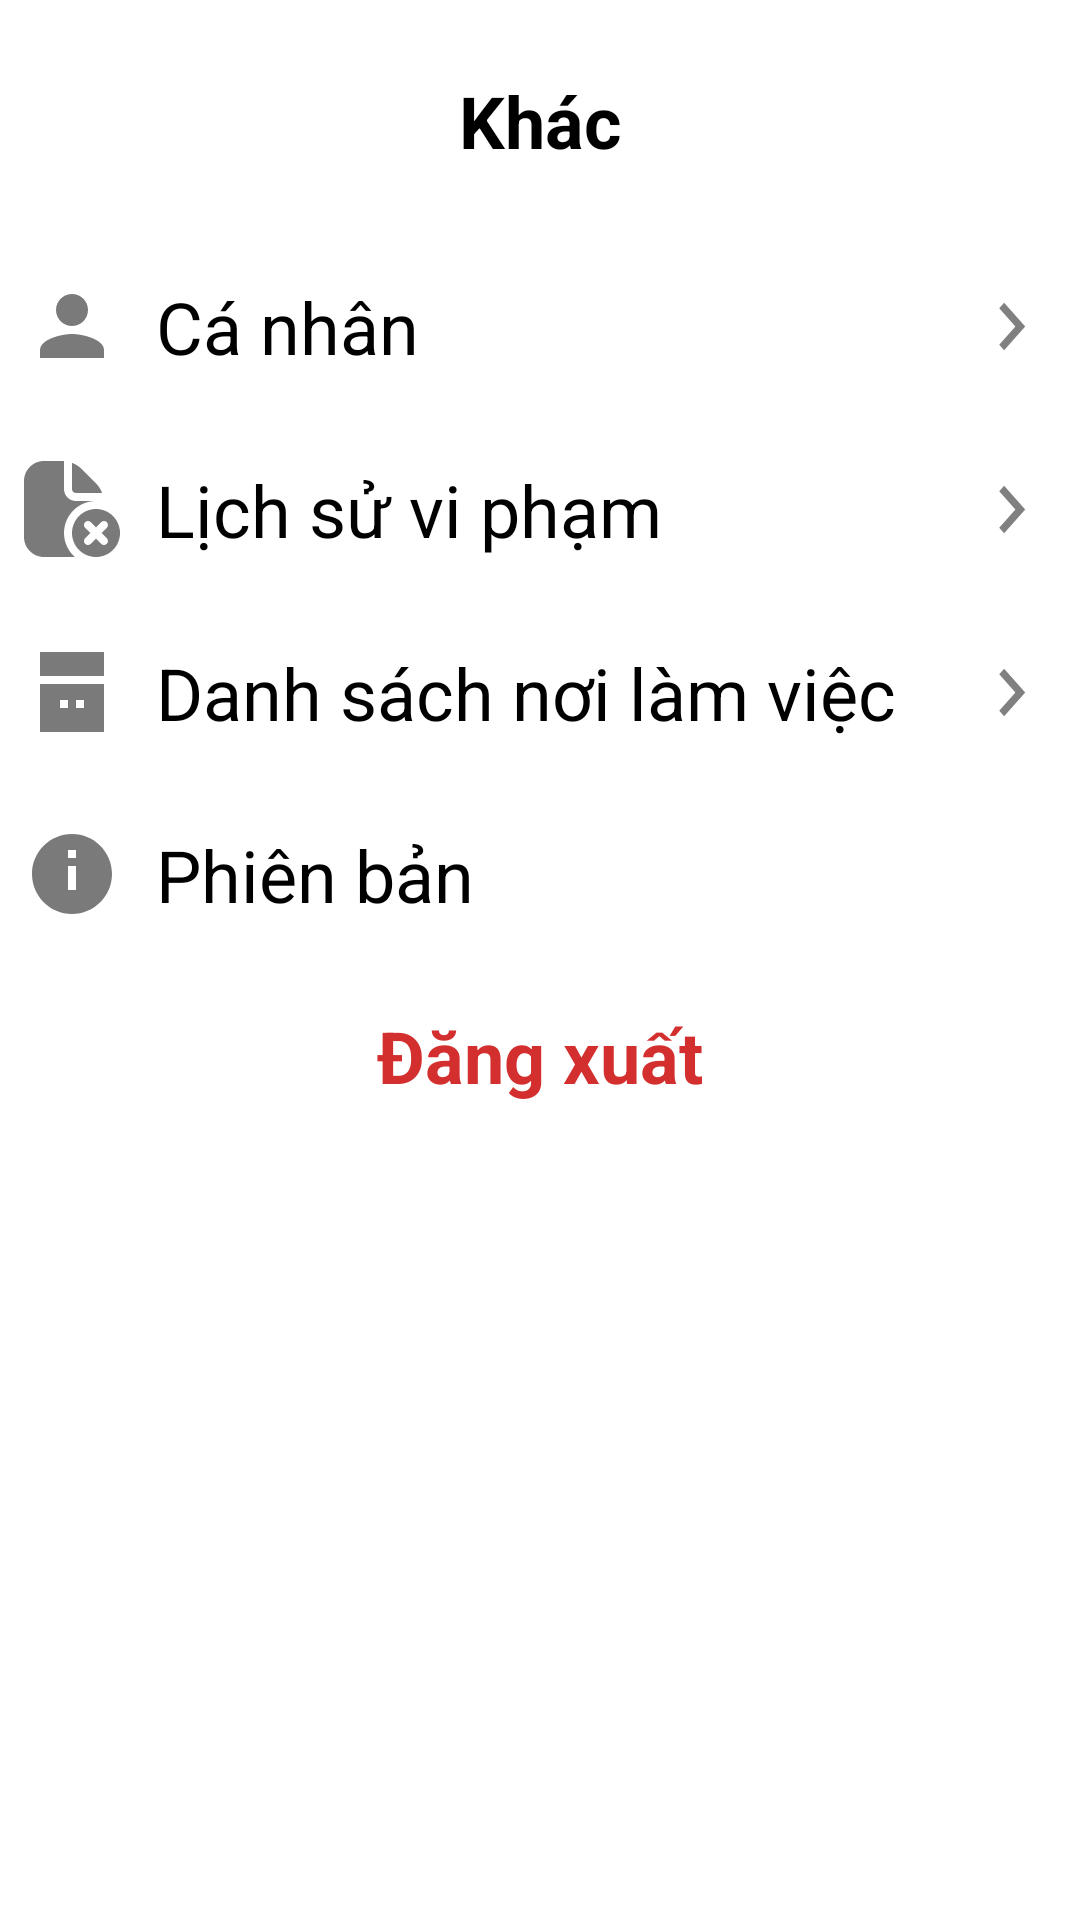

Locate icon controls on the screen. Image size 1080 × 1920, boxes as bbox(x1, y1, x2, y2).
arrow right: bbox(999, 303, 1025, 350), bbox(999, 486, 1025, 533), bbox(999, 669, 1025, 716)
info: bbox(32, 834, 112, 914)
person: bbox(40, 294, 104, 358)
violation: bbox(24, 461, 120, 557)
workplace: bbox(40, 652, 104, 732)
